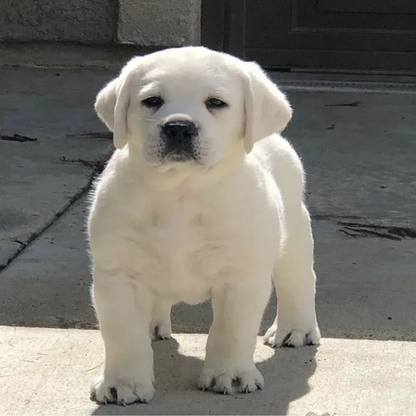labrado: (73, 39, 327, 416)
